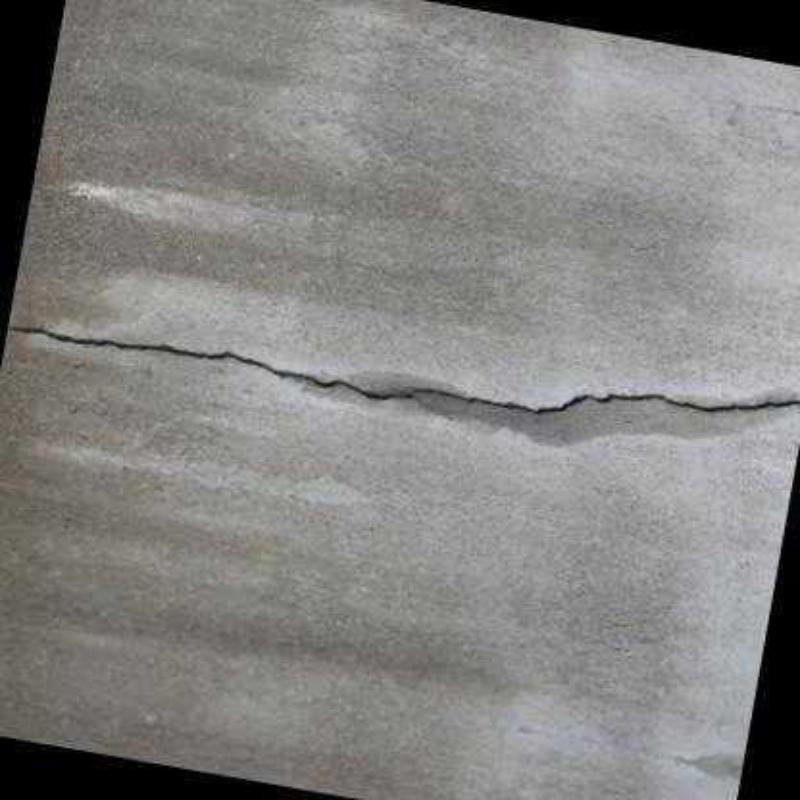pothole: (6, 321, 800, 412)
